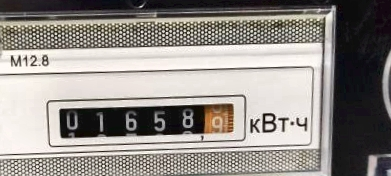0: (65, 108, 79, 131)
1: (95, 110, 106, 133)
5: (152, 108, 167, 132)
6: (123, 109, 138, 131)
8: (180, 106, 195, 129)
9: (208, 114, 223, 135)
screen: (40, 85, 254, 155)
